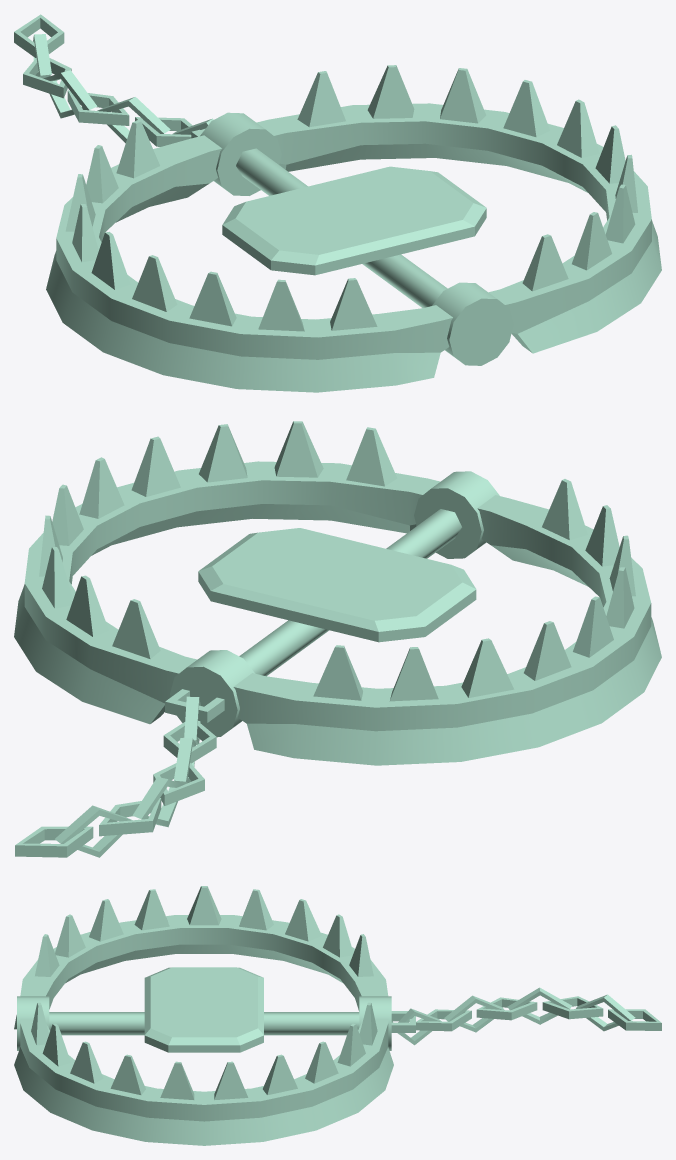
Rendered from BearTrapOpen.fbx.
The picture shows the model from 3 angles, top to bottom: view 1: azimuth 30°, elevation 25°; view 2: azimuth 150°, elevation 25°; view 3: azimuth 270°, elevation 25°; orthographic projection. The views are drawn at different scales.
Parts seen in each view (by area): view 1: RightArm, LeftArm, BearTrapOpen; view 2: RightArm, LeftArm, BearTrapOpen; view 3: LeftArm, BearTrapOpen, RightArm.
Part boxes in pixels (box(x1,y1,x2,y2)): RightArm: box(46, 120, 452, 392); LeftArm: box(256, 65, 661, 353); BearTrapOpen: box(14, 14, 513, 365); RightArm: box(233, 479, 661, 765); LeftArm: box(14, 421, 440, 724); BearTrapOpen: box(15, 471, 499, 857); LeftArm: box(14, 1002, 393, 1145); BearTrapOpen: box(17, 967, 661, 1052); RightArm: box(14, 886, 392, 1029).
Size of the model in its own units: 87.21 by 15.16 by 121.
